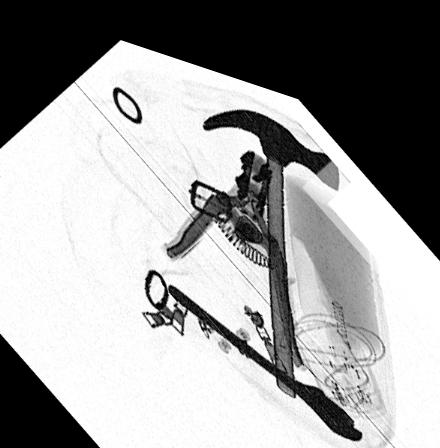Hammer: (198, 91, 342, 378)
Pliers: (159, 130, 313, 350)
Wrench: (168, 270, 361, 415)
